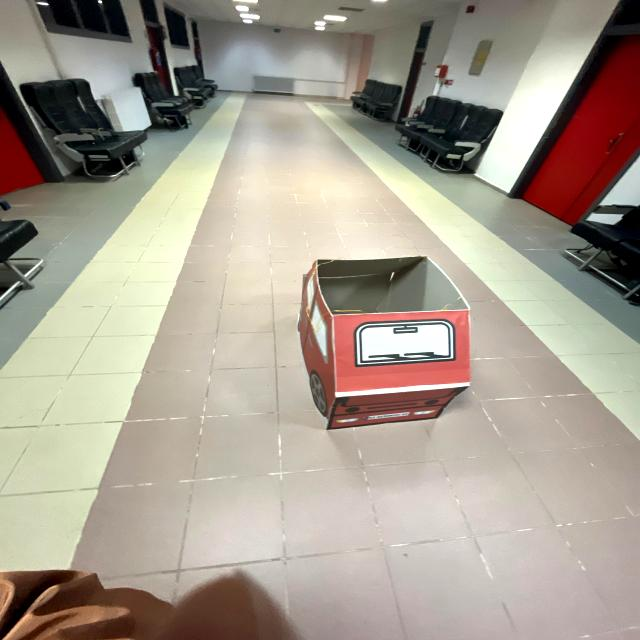red_car: (282, 245, 502, 458)
